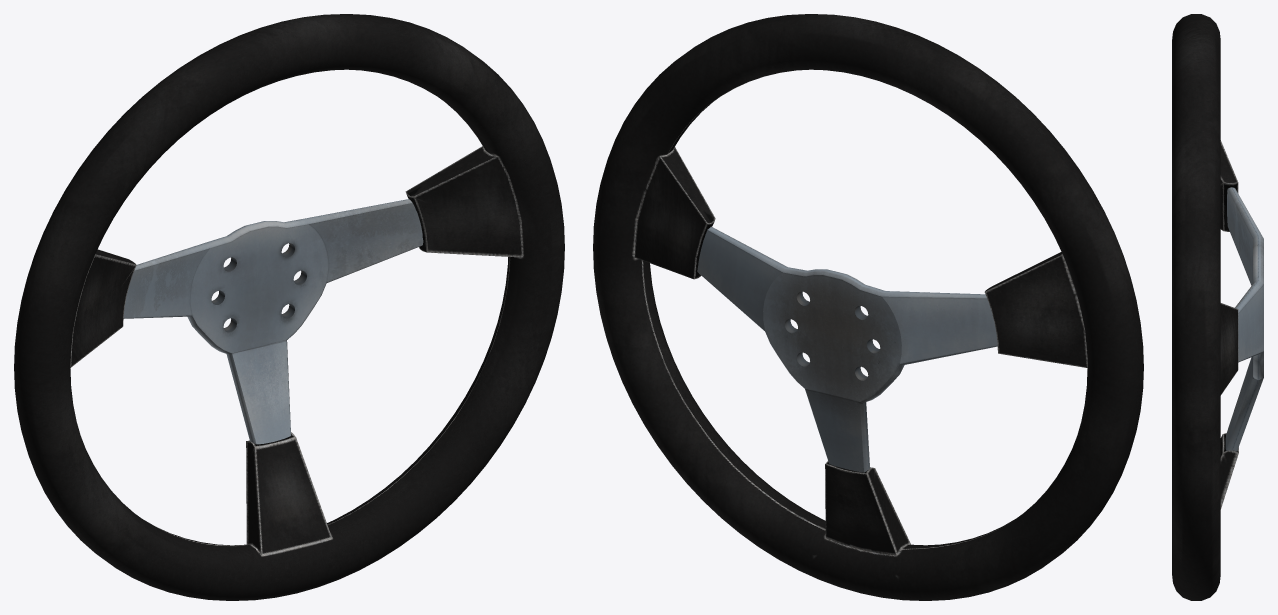
The picture shows the model from 3 angles, left to right: view 1: azimuth 30°, elevation 25°; view 2: azimuth 150°, elevation 25°; view 3: azimuth 270°, elevation 25°; orthographic projection. The views are drawn at different scales.
Visible parts, largest first — view 1: SteeringWheel; view 2: SteeringWheel; view 3: SteeringWheel.
Boxes of the visible parts, x1,y1,x2,y2 form: SteeringWheel: (14,14,564,600); SteeringWheel: (593,14,1143,600); SteeringWheel: (1172,14,1263,600).
Bounding box in the file's own units: 0.5783 × 0.5783 × 0.0904.
Materials: 1 (1 with a texture image).
